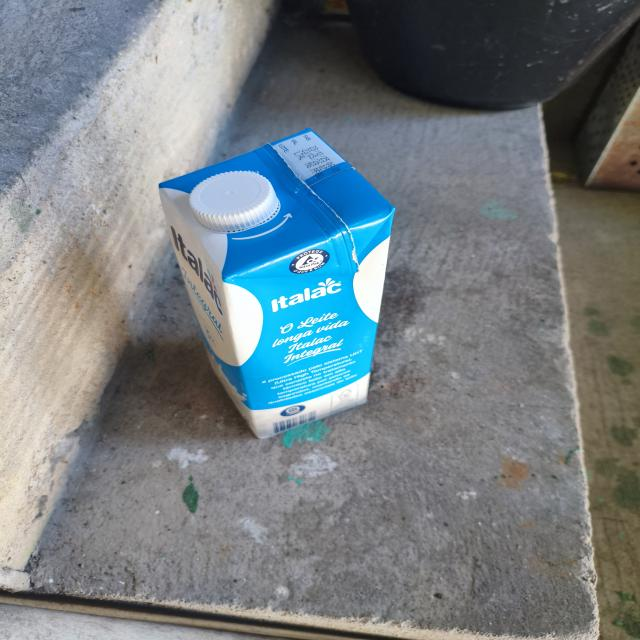Caixa de Leite: (147, 118, 388, 441)
